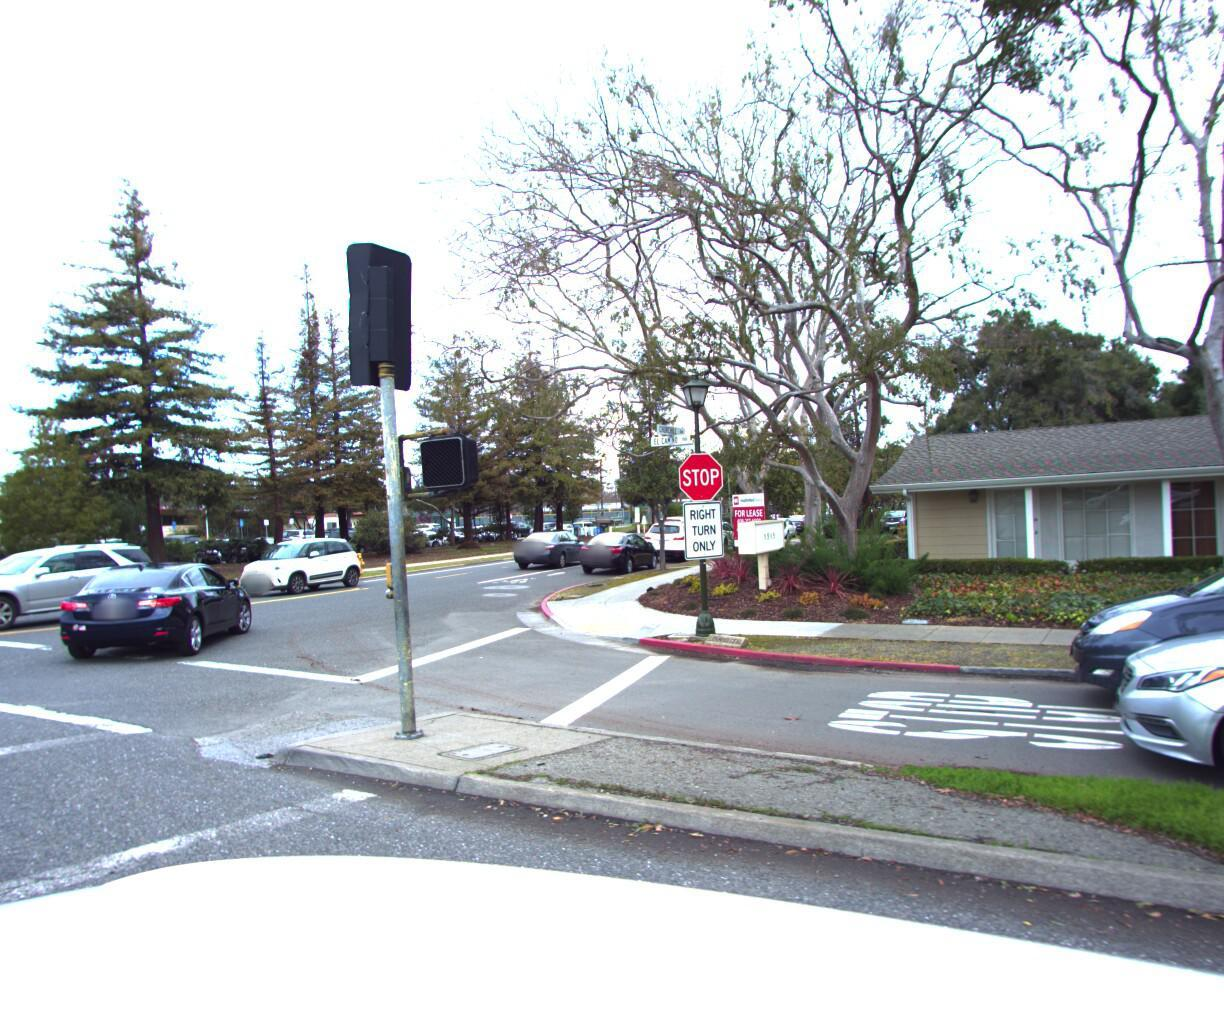car: (1058, 489, 1224, 785), (1131, 554, 1224, 974), (41, 541, 273, 671), (0, 536, 173, 636), (223, 528, 369, 593), (571, 522, 662, 573), (508, 519, 597, 566), (635, 510, 715, 558), (875, 500, 911, 529), (756, 510, 799, 534)
